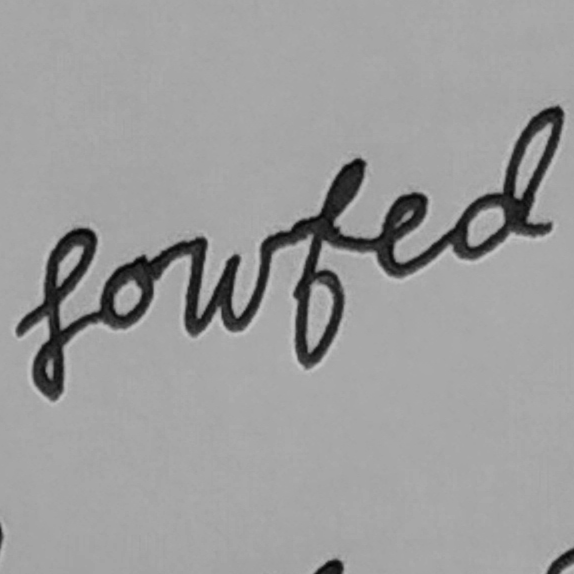d: (443, 98, 571, 266)
e: (375, 180, 439, 284)
f: (284, 154, 372, 375)
o: (95, 251, 163, 341)
s: (8, 218, 103, 404)
w: (169, 224, 281, 340)
